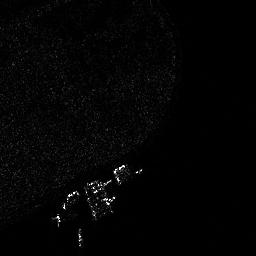ship: (51, 187, 84, 251), (82, 177, 117, 220), (112, 162, 147, 185)
